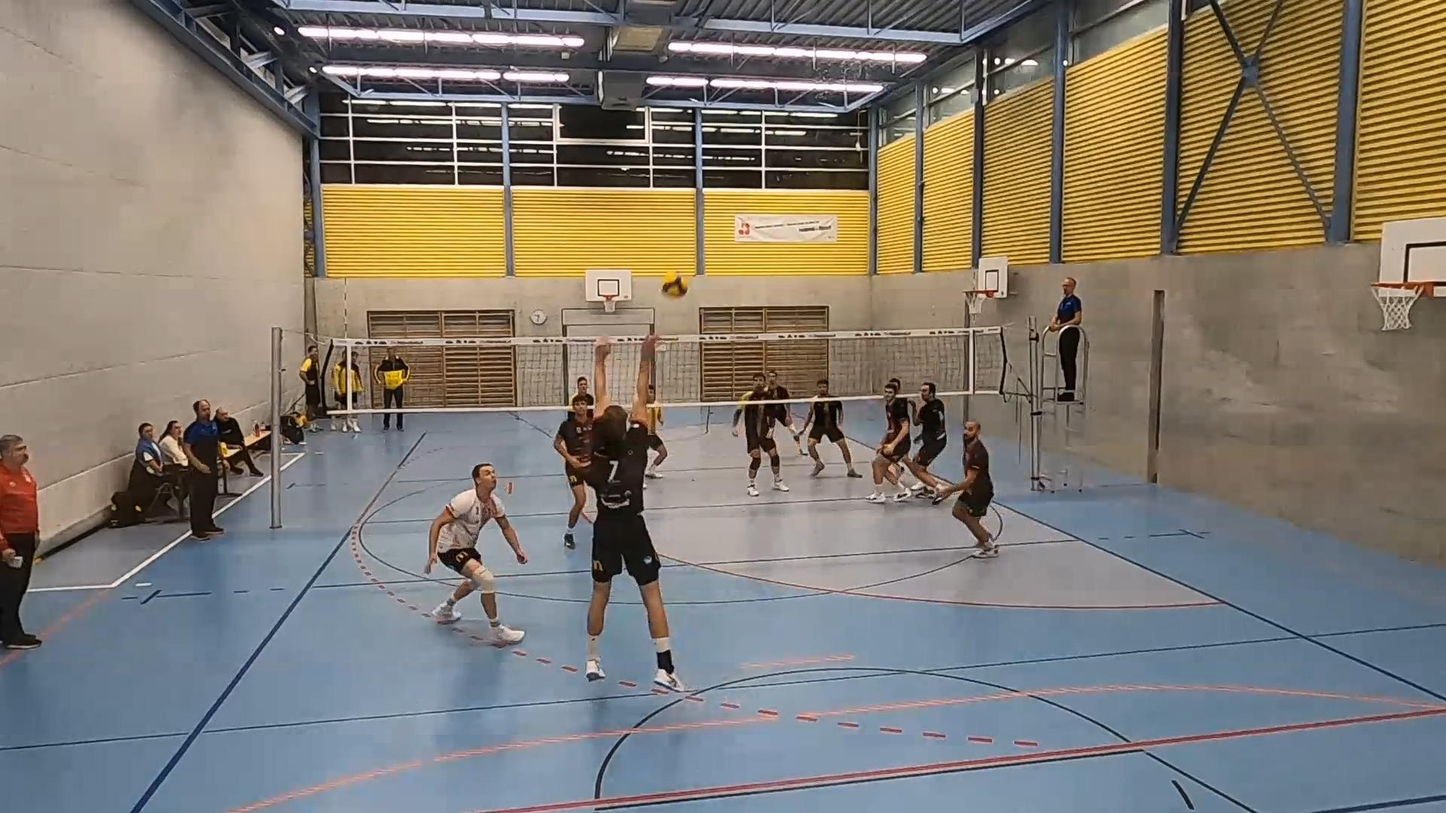difesa: (560, 324, 668, 696)
